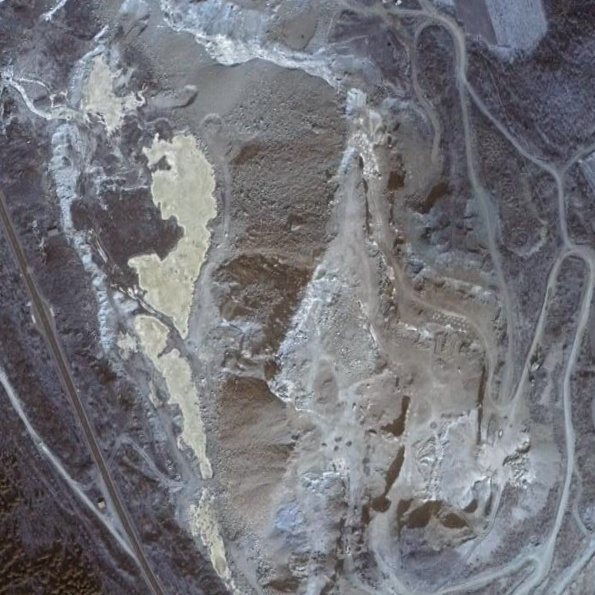slope: (213, 248, 371, 431)
